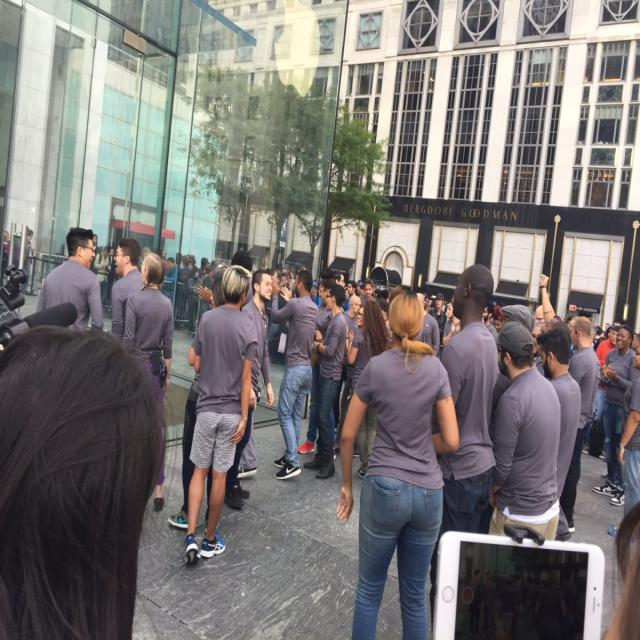body: (173, 226, 640, 350), (0, 323, 173, 640), (334, 290, 460, 640), (429, 262, 499, 640), (183, 263, 259, 568), (429, 524, 600, 640), (489, 320, 563, 540), (168, 274, 228, 534), (116, 250, 175, 511), (223, 268, 276, 509), (268, 266, 320, 480), (590, 322, 640, 506), (302, 283, 348, 481), (559, 315, 600, 534), (532, 326, 583, 502), (488, 304, 546, 454), (346, 300, 388, 480), (34, 226, 104, 332), (296, 276, 336, 456), (606, 343, 640, 539), (599, 497, 640, 640), (581, 324, 622, 455), (333, 304, 367, 458), (109, 235, 145, 343), (196, 249, 254, 305), (534, 316, 572, 381), (410, 293, 440, 357), (93, 243, 113, 318), (428, 293, 448, 362), (180, 260, 197, 330), (187, 268, 203, 334), (20, 229, 35, 296), (198, 266, 215, 324), (480, 299, 499, 346), (442, 302, 461, 347), (344, 294, 362, 337), (1, 230, 11, 287), (358, 279, 376, 308), (163, 257, 179, 283), (91, 233, 100, 254)
